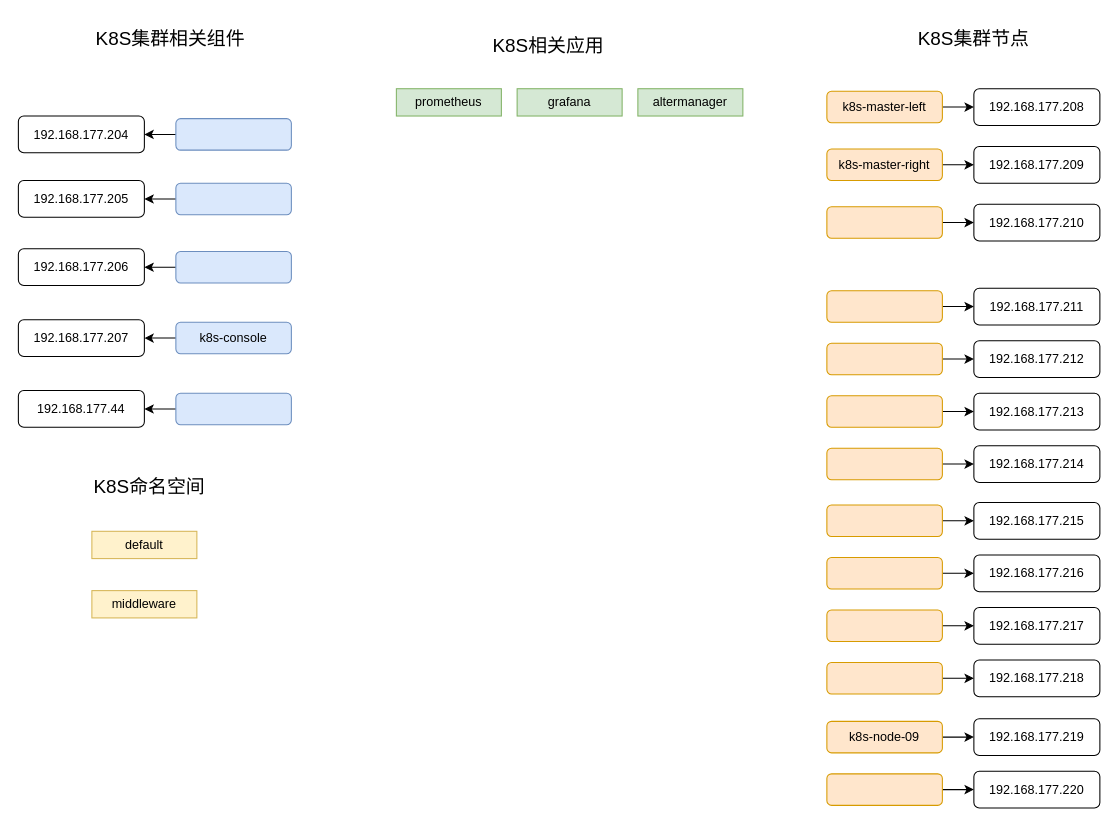
The diagram is 1118 pixels wide and 826 high, and some of its shapes have lost their labels. The shapes that lost their labels are listed below. From the top down, each one's centre as x and y in pixels, then its label:
the point at 233,134: k8s-jenkins
the point at 233,198: ansible
the point at 884,222: k8s-master
the point at 233,266: nfs-server
the point at 884,306: k8s-node-01
the point at 884,358: k8s-node-02
the point at 233,408: nginx
the point at 884,411: k8s-node-03
the point at 884,463: k8s-node-04
the point at 884,520: k8s-node-05
the point at 884,572: k8s-node-06
the point at 884,625: k8s-node-07
the point at 884,678: k8s-node-08
the point at 884,789: k8s-node-10
